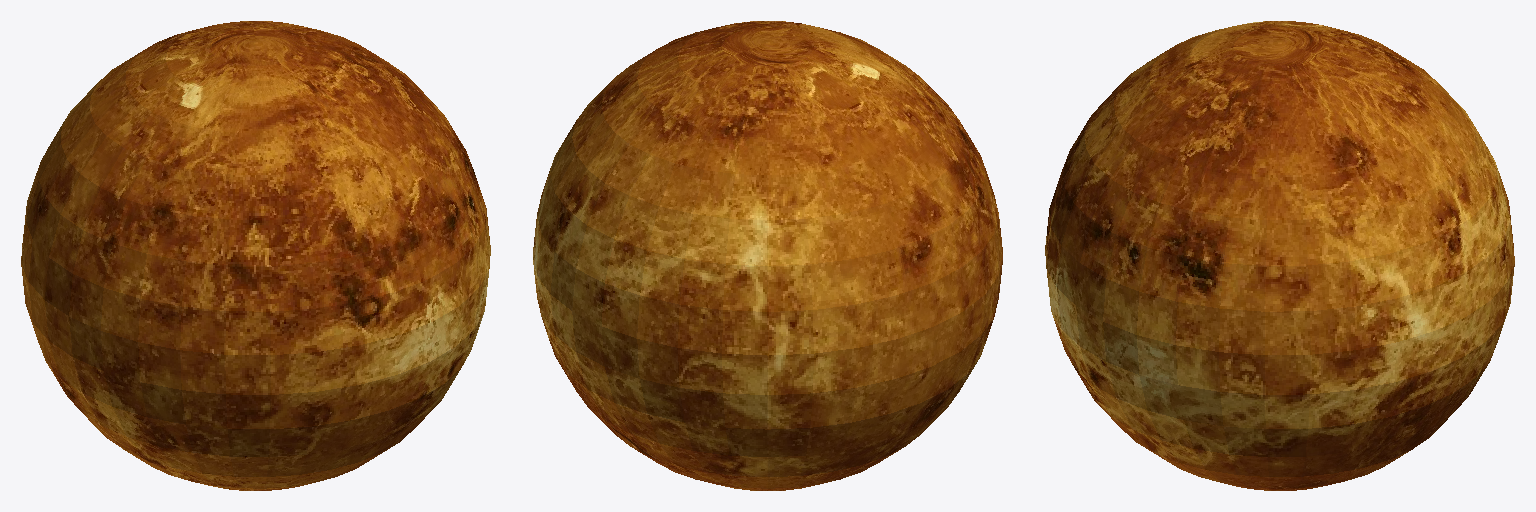
The picture shows the model from 3 angles: view 1: azimuth 30°, elevation 25°; view 2: azimuth 150°, elevation 25°; view 3: azimuth 270°, elevation 25°; orthographic projection.
Parts seen in each view (by area): view 1: Venus; view 2: Venus; view 3: Venus.
Boxes of the visible parts, x1,y1,x2,y2 form: Venus: [21, 21, 490, 490]; Venus: [533, 21, 1002, 490]; Venus: [1045, 21, 1514, 490].
Size of the model in its own units: 81.6 by 81.77 by 81.6.
1 materials, 1 textured.